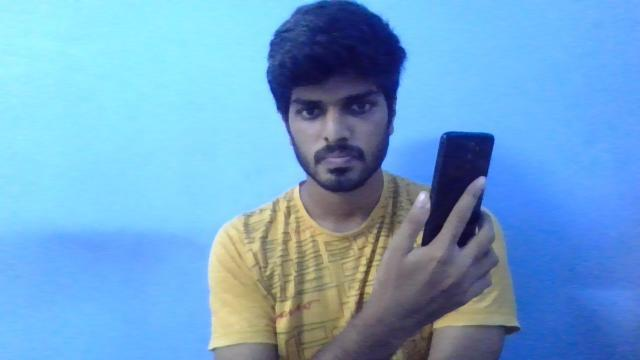PhoneUse: (436, 130, 492, 264)
SafeDriving: (286, 90, 332, 122), (338, 89, 384, 119)
